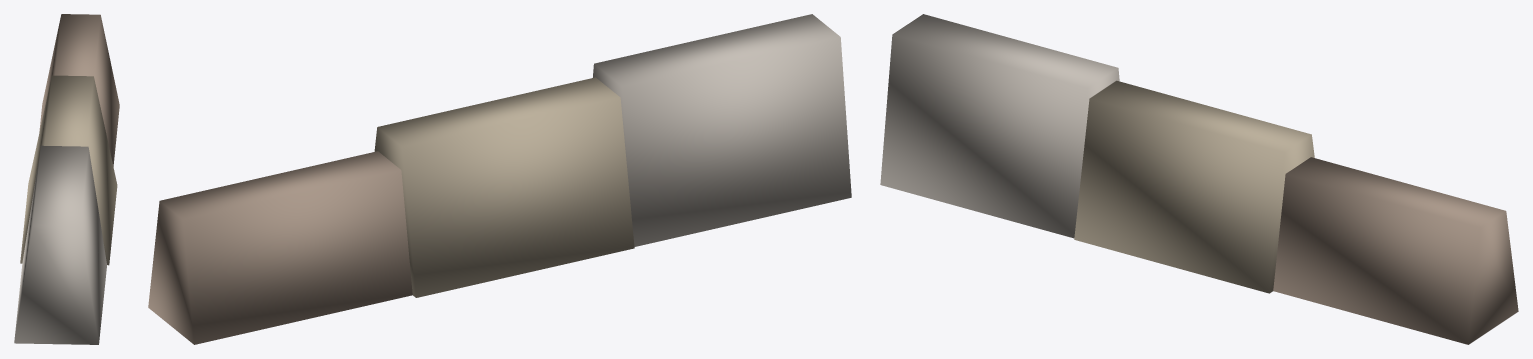
The model's file is farm_-4_16_collision.glb.
3 renders of one model, left to right at view 1: azimuth 30°, elevation 25°; view 2: azimuth 150°, elevation 25°; view 3: azimuth 270°, elevation 25°, orthographic. The views are drawn at different scales.
Visible parts, largest first — view 1: geometry_0; view 2: geometry_0; view 3: geometry_0.
Boxes of the visible parts, x1=… form: geometry_0: x1=14, y1=14, x2=119, y2=344; geometry_0: x1=148, y1=14, x2=851, y2=344; geometry_0: x1=880, y1=14, x2=1518, y2=344.
Size of the model in its own units: 3.12 by 1.11 by 4.38.
